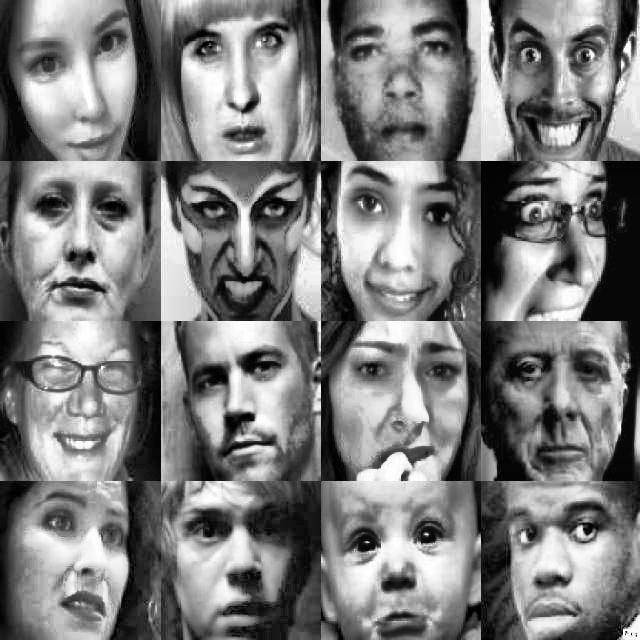angry: (169, 174, 313, 316), (15, 165, 146, 316), (496, 333, 632, 473), (13, 492, 145, 630)
fear: (326, 492, 466, 640), (499, 174, 633, 318), (170, 500, 310, 637)
happy: (9, 336, 145, 476), (11, 20, 143, 154), (339, 175, 462, 315), (494, 20, 620, 152)
neutral: (165, 12, 313, 154), (495, 487, 627, 636), (174, 333, 306, 467)
sad: (328, 13, 466, 157), (333, 335, 473, 467)
